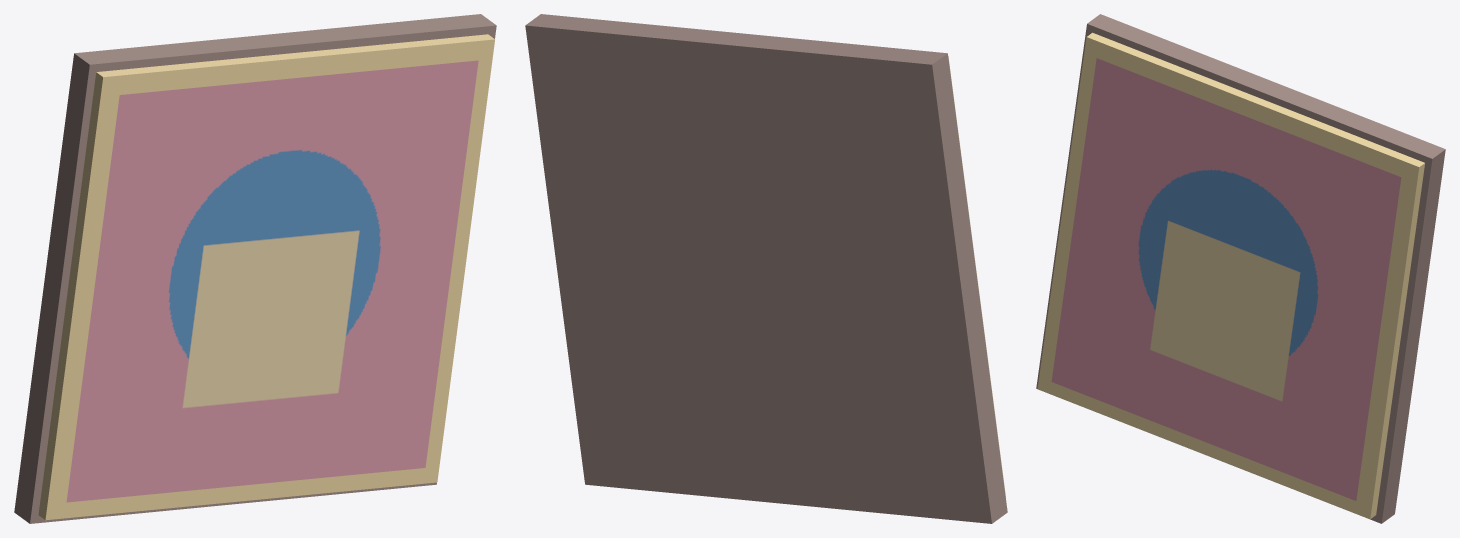
The model's file is 24_cuadro_torcido.glb.
The picture shows the model from 3 angles, left to right: view 1: azimuth 30°, elevation 25°; view 2: azimuth 150°, elevation 25°; view 3: azimuth 330°, elevation 25°; orthographic projection. The views are drawn at different scales.
Visible parts, largest first — view 1: surface, body (×2); view 2: body; view 3: surface, body (×2).
Boxes of the visible parts, x1=… form: surface: x1=66, y1=60, x2=478, y2=502; body (×2): x1=14, y1=14, x2=496, y2=523; body: x1=525, y1=14, x2=1007, y2=523; surface: x1=1051, y1=58, x2=1401, y2=500; body (×2): x1=1036, y1=14, x2=1445, y2=523.
Size of the model in its own units: 0.7724 by 0.7979 by 0.0715.
Materials: 3 (1 with a texture image).
